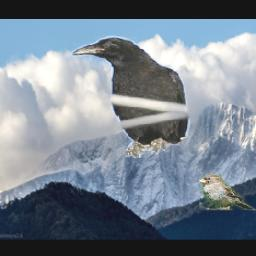Crow: (70, 35, 189, 158)
Sparrow: (199, 174, 256, 210)
